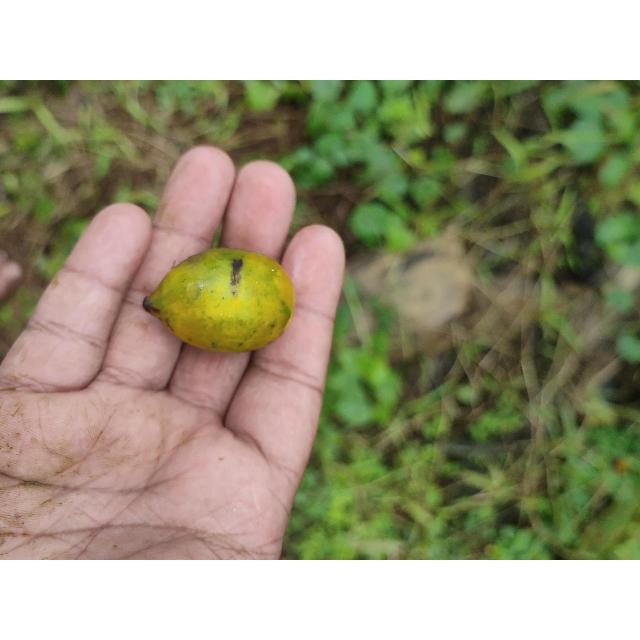good: (141, 246, 295, 355)
